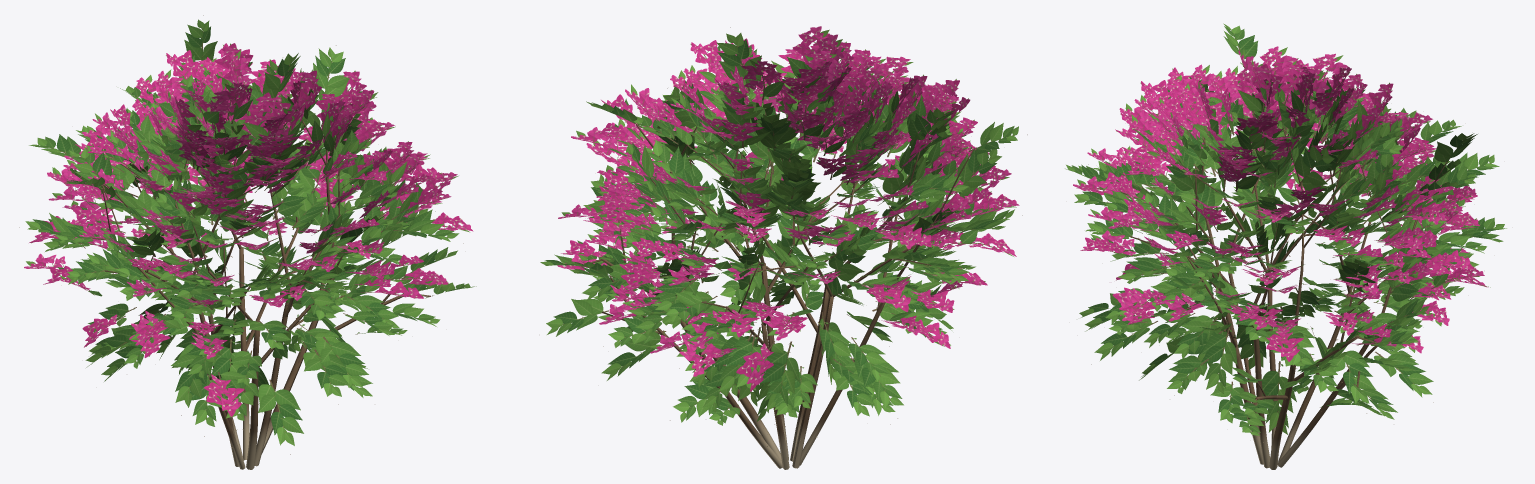
The model's file is Bougainvillea_A.gltf.
3 views of the same model, side by side, from view 1: azimuth 30°, elevation 25°; view 2: azimuth 150°, elevation 25°; view 3: azimuth 270°, elevation 25° (orthographic). The views are drawn at different scales.
Parts seen in each view (by area): view 1: Bougainvillea_A; view 2: Bougainvillea_A; view 3: Bougainvillea_A.
Boxes of the visible parts, x1,y1,x2,y2 form: Bougainvillea_A: [19, 15, 476, 469]; Bougainvillea_A: [540, 26, 1027, 469]; Bougainvillea_A: [1065, 23, 1506, 469].
Size of the model in its own units: 2.39 by 2.14 by 2.17.
Materials: 2 (2 with a texture image).
